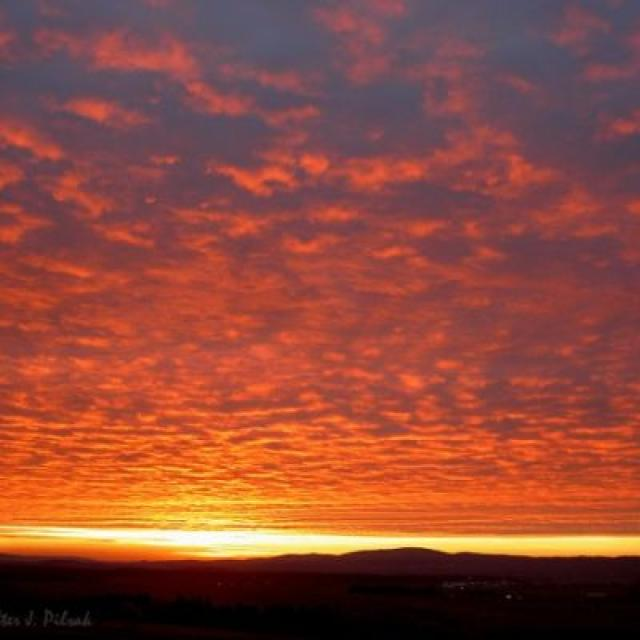Ac: (1, 15, 640, 504)
